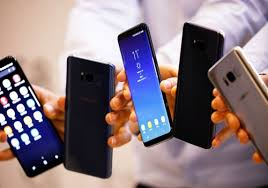mobil: (0, 54, 64, 178), (207, 43, 268, 165), (116, 21, 173, 147), (173, 21, 224, 149), (65, 54, 115, 178)
